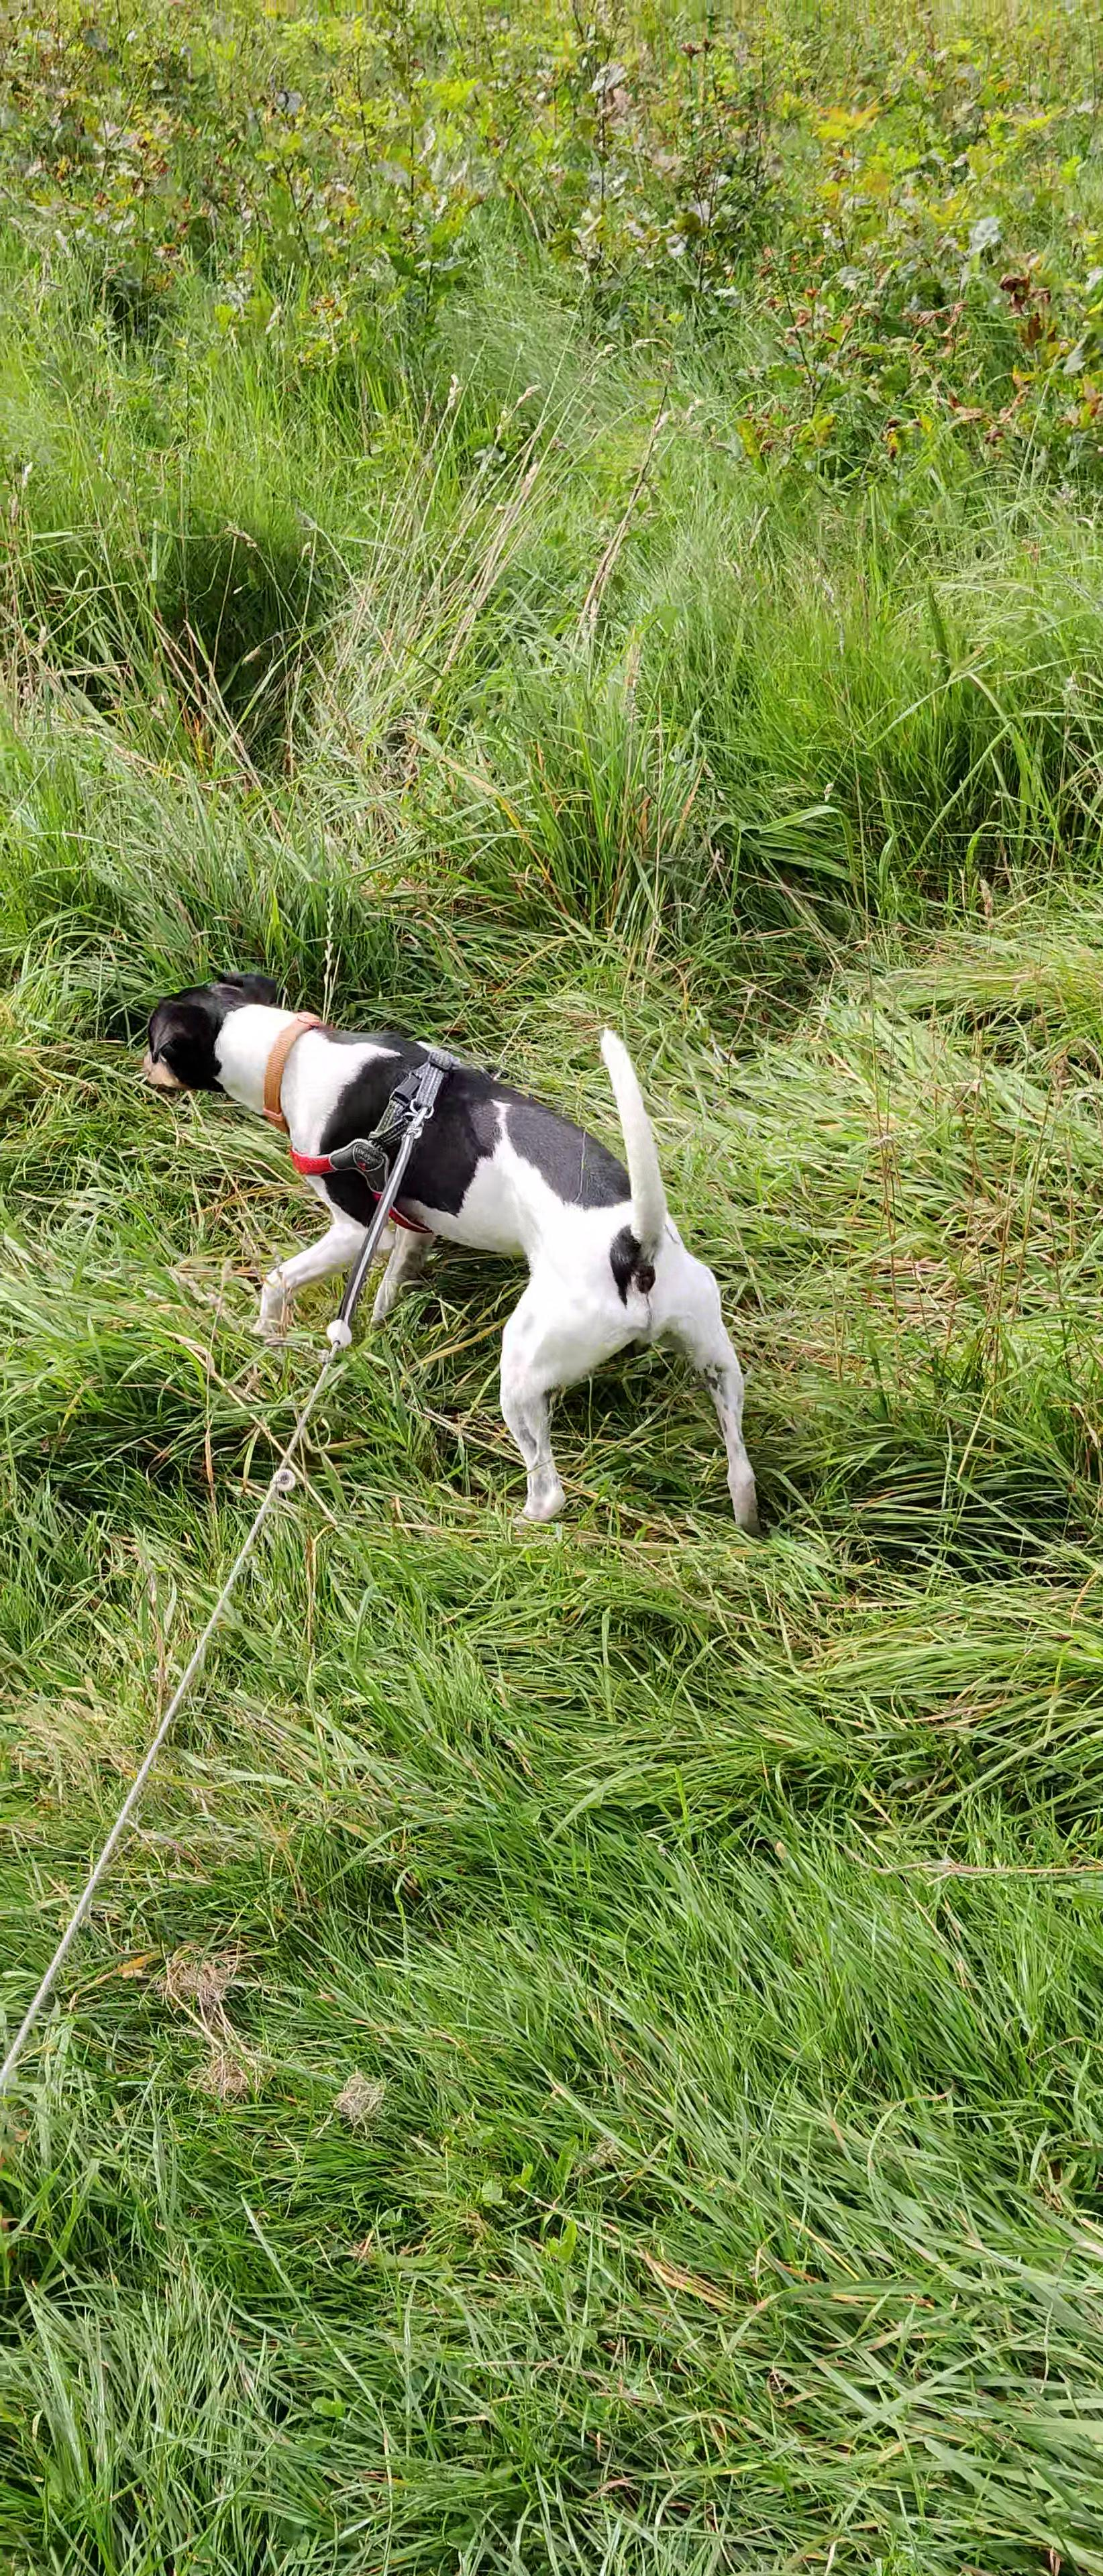Dog: (130, 963, 776, 1528)
